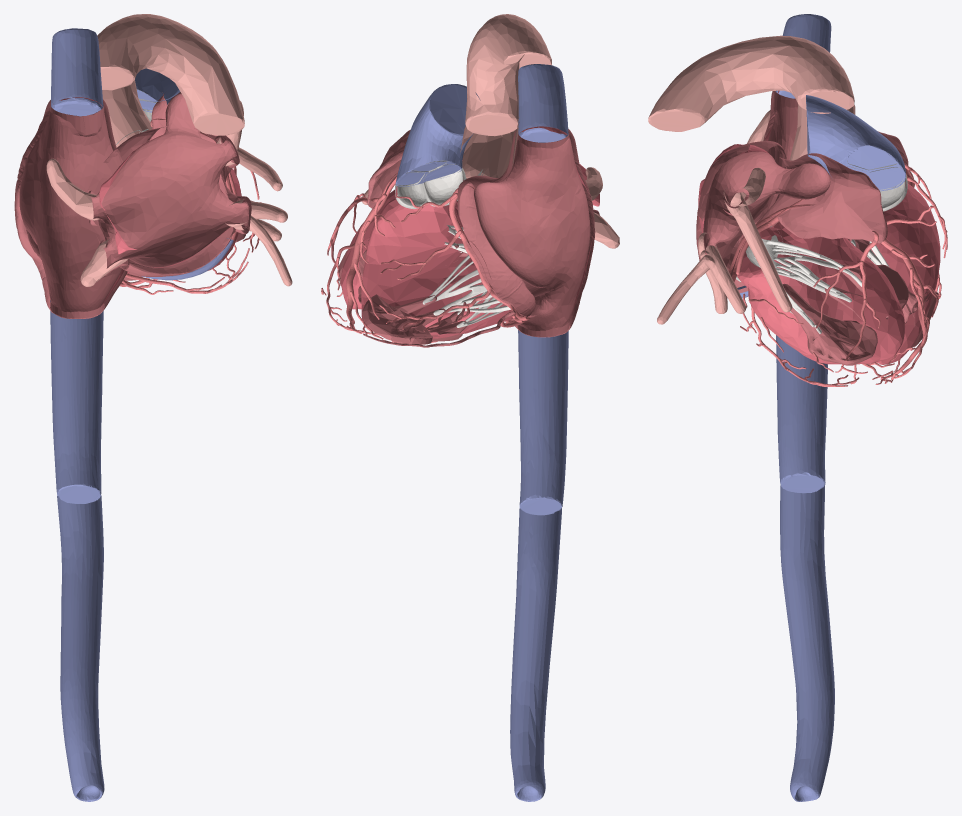
The model's file is coracao-bancada11-WIP.glb.
The picture shows the model from 3 angles, left to right: view 1: azimuth 30°, elevation 25°; view 2: azimuth 150°, elevation 25°; view 3: azimuth 270°, elevation 25°; orthographic projection. The views are drawn at different scales.
Visible parts, largest first — view 1: veia_cava_inferior, parede_ae, parede_ad, arco_aortico, veia_cava_superior, aorta_ascendente, veia_pulmonar_inferior_esquerda, veia_pulmonar_superior_direita, tronco_pulmonar, veia_pulmonar_superior_esquerda, veia_pulmonar_inferior_direita, cavidade_ae (+1 smaller); view 2: parede_ad, veia_cava_inferior, cavidade_vd, arco_aortico, tronco_pulmonar, veia_cava_superior, musculo_papilar_anterior_vd, aorta_ascendente, cuspide_anterior_tricuspide, parede_ae, cavidade_ve, cuspide_anterior_direita_pulmonar (+6 smaller); view 3: veia_cava_inferior, parede_ae, arco_aortico, cavidade_ve, tronco_pulmonar, cavidade_vd, miocardio_ve, veia_pulmonar_inferior_esquerda, veia_pulmonar_superior_esquerda, cuspide_anterior_mitral, parede_ad, veia_cava_superior (+6 smaller).
Part boxes in pixels (left/top/right/bottom): veia_cava_inferior: left=50, top=300, right=104, bottom=801; parede_ae: left=87, top=92, right=251, bottom=276; parede_ad: left=14, top=99, right=129, bottom=318; arco_aortico: left=97, top=14, right=244, bottom=135; veia_cava_superior: left=51, top=28, right=103, bottom=116; aorta_ascendente: left=102, top=80, right=152, bottom=147; veia_pulmonar_inferior_esquerda: left=225, top=199, right=292, bottom=286; veia_pulmonar_superior_direita: left=46, top=158, right=99, bottom=220; tronco_pulmonar: left=135, top=68, right=180, bottom=112; veia_pulmonar_superior_esquerda: left=216, top=101, right=282, bottom=191; veia_pulmonar_inferior_direita: left=80, top=238, right=128, bottom=286; cavidade_ae: left=99, top=130, right=230, bottom=267; parede_ad: left=457, top=129, right=595, bottom=337; veia_cava_inferior: left=510, top=330, right=568, bottom=801; cavidade_vd: left=361, top=180, right=512, bottom=338; arco_aortico: left=465, top=14, right=551, bottom=136; tronco_pulmonar: left=395, top=84, right=480, bottom=186; veia_cava_superior: left=518, top=64, right=568, bottom=142; musculo_papilar_anterior_vd: left=362, top=294, right=445, bottom=344; aorta_ascendente: left=460, top=125, right=518, bottom=178; cuspide_anterior_tricuspide: left=422, top=255, right=510, bottom=315; parede_ae: left=367, top=130, right=599, bottom=214; cavidade_ve: left=341, top=189, right=395, bottom=309; cuspide_anterior_direita_pulmonar: left=422, top=164, right=465, bottom=206; veia_cava_inferior: left=776, top=335, right=834, bottom=801; parede_ae: left=696, top=141, right=887, bottom=292; arco_aortico: left=648, top=35, right=854, bottom=131; cavidade_ve: left=737, top=221, right=905, bottom=364; tronco_pulmonar: left=806, top=95, right=905, bottom=191; cavidade_vd: left=871, top=182, right=940, bottom=364; miocardio_ve: left=782, top=283, right=877, bottom=365; veia_pulmonar_inferior_esquerda: left=657, top=232, right=746, bottom=324; veia_pulmonar_superior_esquerda: left=723, top=167, right=792, bottom=312; cuspide_anterior_mitral: left=762, top=226, right=861, bottom=302; parede_ad: left=763, top=91, right=914, bottom=185; veia_cava_superior: left=775, top=14, right=831, bottom=98.
Bounding box in the file's own units: 119 × 366 × 127.
